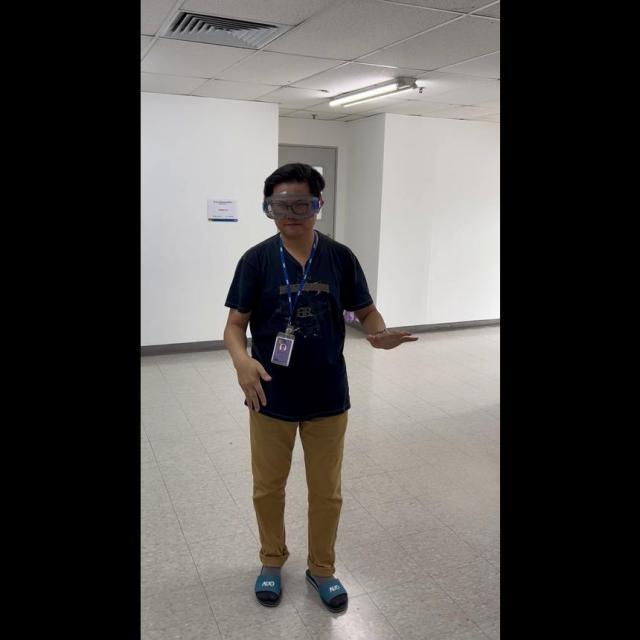bare_hand: (231, 353, 271, 412), (365, 321, 417, 351)
